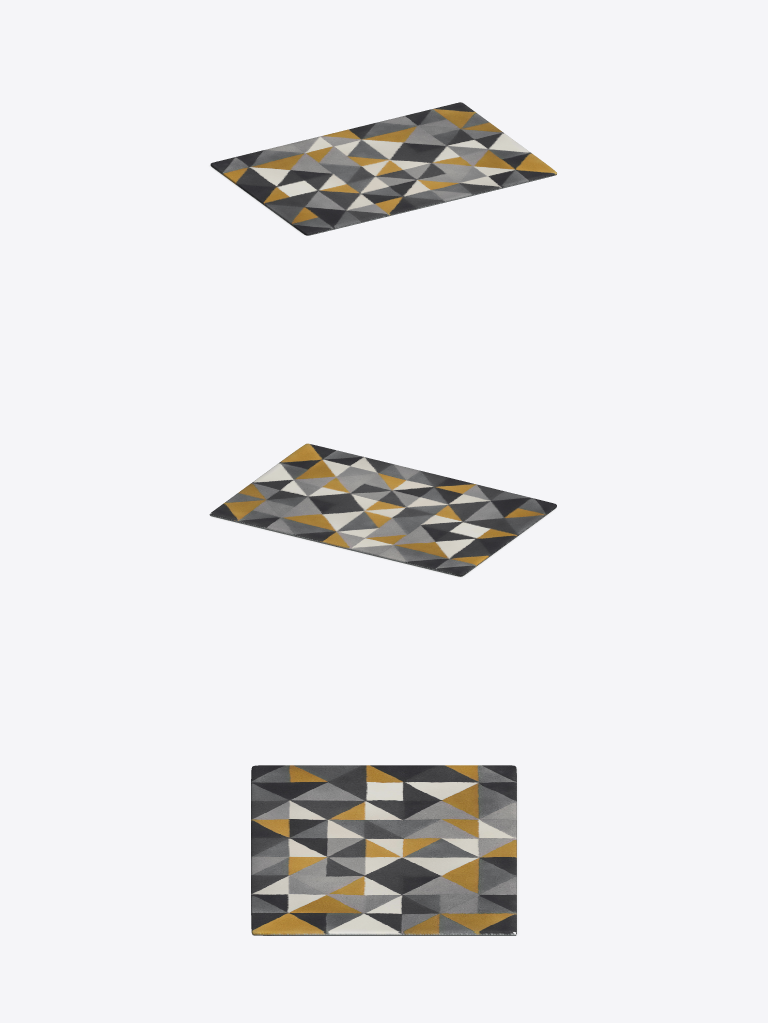
File: rug.glb
3 views of the same model, one above another, from view 1: azimuth 30°, elevation 25°; view 2: azimuth 150°, elevation 25°; view 3: azimuth 270°, elevation 25° (orthographic). The views are drawn at different scales.
Parts seen in each view (by area): view 1: Henrik_Hand_Tufted_Wool_Rug_Grey_and_RedMulti_120x180cm_HENR; view 2: Henrik_Hand_Tufted_Wool_Rug_Grey_and_RedMulti_120x180cm_HENR, Plane001; view 3: Henrik_Hand_Tufted_Wool_Rug_Grey_and_RedMulti_120x180cm_HENR.
Boxes of the visible parts, <box> form: Henrik_Hand_Tufted_Wool_Rug_Grey_and_RedMulti_120x180cm_HENR: <box>210,102,556,235</box>; Henrik_Hand_Tufted_Wool_Rug_Grey_and_RedMulti_120x180cm_HENR: <box>209,443,556,576</box>; Plane001: <box>210,507,556,577</box>; Henrik_Hand_Tufted_Wool_Rug_Grey_and_RedMulti_120x180cm_HENR: <box>251,765,516,935</box>.
Bounding box in the file's own units: 445 × 2.9 × 445.
2 materials, 2 textured.
